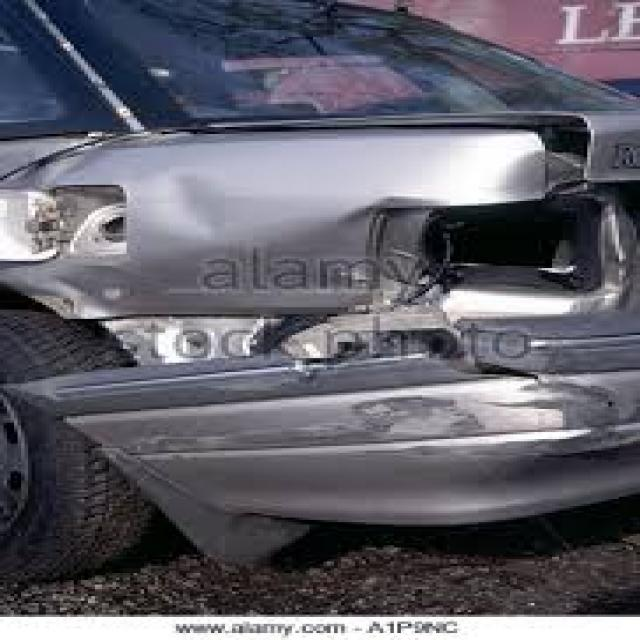moderate: (26, 156, 620, 454)
